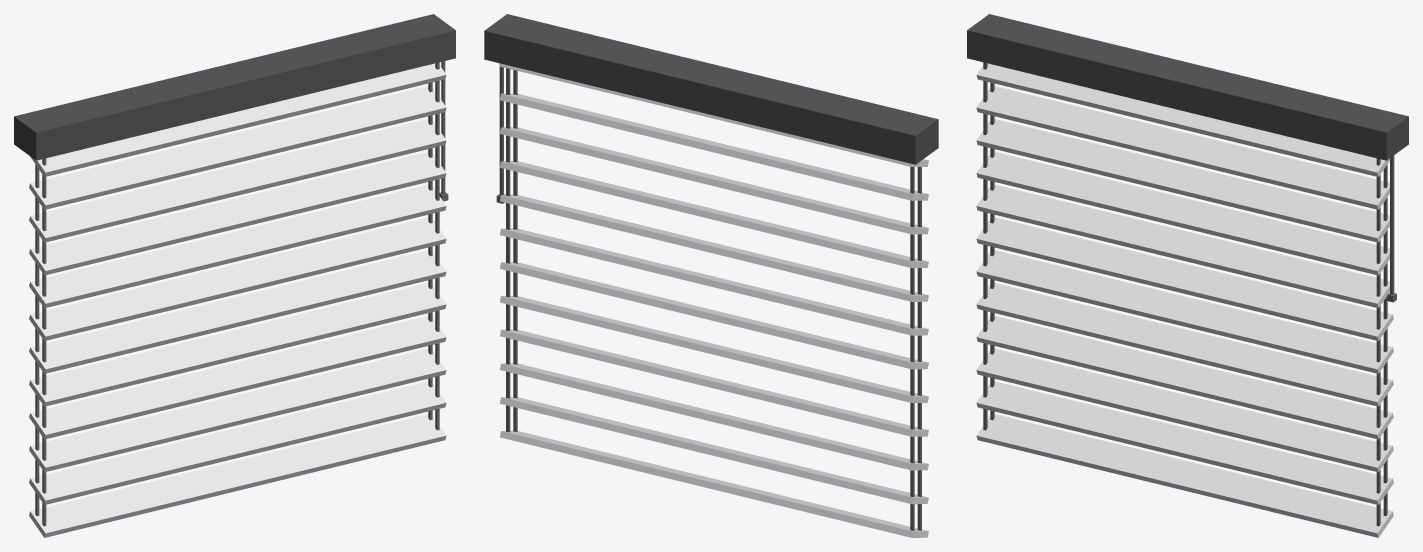
Rendered from Curtains11_C1.fbx.
The picture shows the model from 3 angles, left to right: view 1: azimuth 30°, elevation 25°; view 2: azimuth 150°, elevation 25°; view 3: azimuth 330°, elevation 25°; orthographic projection. The views are drawn at different scales.
Parts seen in each view (by area): view 1: Curtains11_C1; view 2: Curtains11_C1; view 3: Curtains11_C1.
Part boxes in pixels (bbox=[...]): Curtains11_C1: bbox=[14, 14, 455, 537]; Curtains11_C1: bbox=[484, 14, 938, 537]; Curtains11_C1: bbox=[967, 14, 1408, 537].
Size of the model in its own units: 138 by 128 by 12.67.
